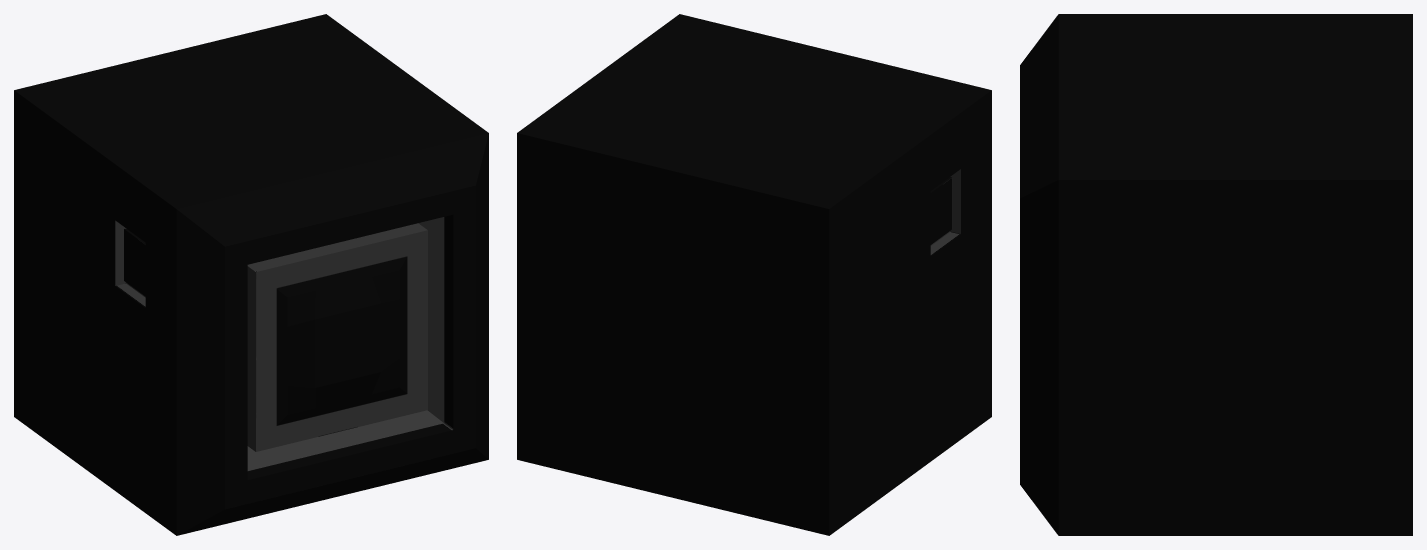
Rendered from Camera.obj.
3 renders of one model, left to right at view 1: azimuth 30°, elevation 25°; view 2: azimuth 150°, elevation 25°; view 3: azimuth 270°, elevation 25°, orthographic. The views are drawn at different scales.
Visible parts, largest first — view 1: Cube; view 2: Cube; view 3: Cube.
Part boxes in pixels (left/top/right/bottom): Cube: left=14, top=14, right=488, bottom=535; Cube: left=517, top=14, right=991, bottom=535; Cube: left=1020, top=14, right=1412, bottom=535.
Size of the model in its own units: 1 by 1 by 1.
